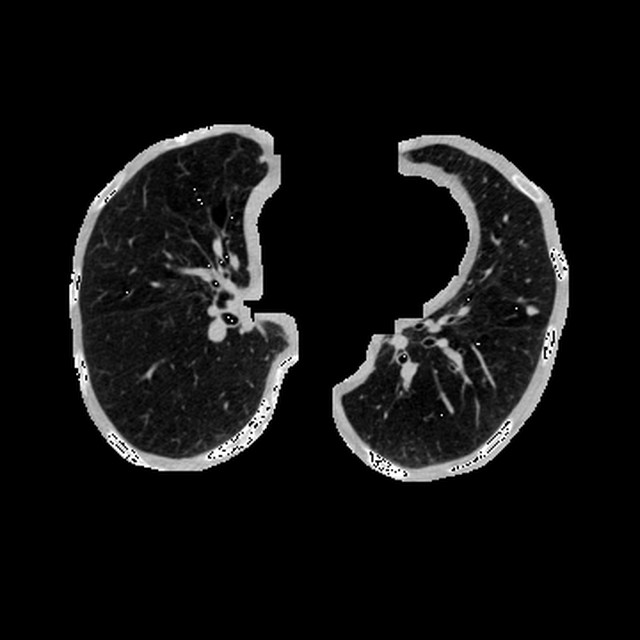PN: (526, 304, 537, 315)
